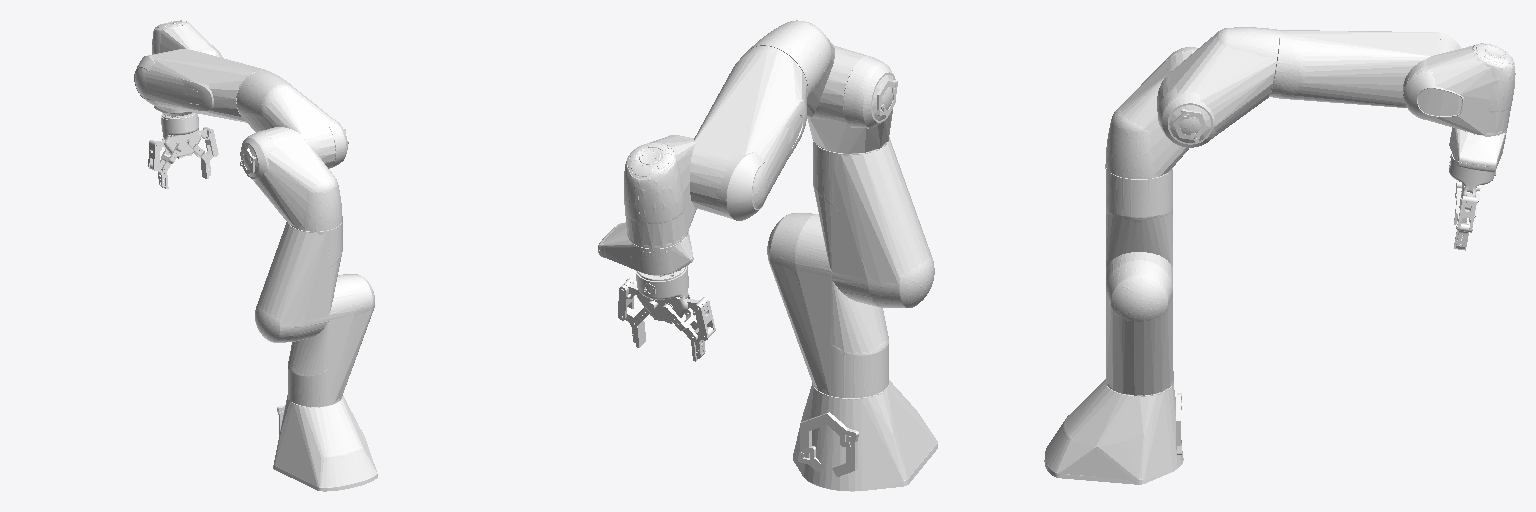
--- What the picture shows (computed from the rendered views, not written in the file) ---
The picture shows the robot from 3 angles, left to right: view 1: azimuth 30°, elevation 25°; view 2: azimuth 150°, elevation 25°; view 3: azimuth 270°, elevation 25°; orthographic projection.
Model converted_robot with 31 links and 30 joints (7 revolute, 23 fixed), rooted at world, posed joints at zero except 1 at the middle of their limits (panda0_joint4 = -1.74).
Visible links, largest first — view 1: panda0_link2, panda0_link0, panda0_link3, panda0_link1, panda0_link5, panda0_link4, panda0_link6, robotiq_2f_85; view 2: panda0_link2, panda0_link5, panda0_link1, panda0_link0, panda0_link3, panda0_link6, panda0_link4, panda0_link7, robotiq_2f_85, robotiq_2f_85_left_driver, robotiq_2f_85_left_spring_link, robotiq_2f_85_right_driver; view 3: panda0_link0, panda0_link5, panda0_link4, panda0_link1, panda0_link6, panda0_link3, panda0_link2, panda0_link7, robotiq_2f_85.
Link boxes in pixels (left/top/right/bottom): panda0_link2: left=255, top=221, right=342, bottom=342; panda0_link0: left=273, top=395, right=377, bottom=491; panda0_link3: left=240, top=127, right=342, bottom=231; panda0_link1: left=288, top=274, right=374, bottom=406; panda0_link5: left=134, top=49, right=269, bottom=122; panda0_link4: left=236, top=71, right=348, bottom=168; panda0_link6: left=152, top=20, right=222, bottom=57; robotiq_2f_85: left=161, top=113, right=201, bottom=158; panda0_link2: left=813, top=137, right=934, bottom=307; panda0_link5: left=690, top=46, right=807, bottom=220; panda0_link1: left=767, top=213, right=888, bottom=397; panda0_link0: left=793, top=380, right=937, bottom=491; panda0_link3: left=807, top=46, right=897, bottom=153; panda0_link6: left=624, top=135, right=696, bottom=248; panda0_link4: left=748, top=20, right=834, bottom=118; panda0_link7: left=598, top=222, right=693, bottom=275; robotiq_2f_85: left=635, top=265, right=690, bottom=323; robotiq_2f_85_left_driver: left=686, top=297, right=715, bottom=340; robotiq_2f_85_left_spring_link: left=662, top=304, right=697, bottom=341; robotiq_2f_85_right_driver: left=618, top=278, right=637, bottom=320; panda0_link0: left=1044, top=379, right=1183, bottom=484; panda0_link5: left=1270, top=30, right=1460, bottom=107; panda0_link4: left=1157, top=27, right=1279, bottom=147; panda0_link1: left=1106, top=252, right=1173, bottom=395; panda0_link6: left=1403, top=43, right=1515, bottom=135; panda0_link3: left=1106, top=47, right=1197, bottom=178; panda0_link2: left=1105, top=164, right=1172, bottom=267; panda0_link7: left=1449, top=127, right=1506, bottom=171; robotiq_2f_85: left=1449, top=154, right=1496, bottom=207.
Size in the robot's own frame: 0.2589 by 0.7638 by 0.7695 metres.
35 mesh visuals loaded from 27 distinct referenced files (27 binary STL).

The robot description file, URDF, robot "converted_robot":
<?xml version="1.0" ?>
<robot name="converted_robot">
   <!--generated with mjcf_urdf_simple_converter (https://github.com/Yasu31/mjcf_urdf_simple_converter)-->
   <link name="world">
      <inertial>
         <origin xyz="0.0 0.0 0.0" rpy="0.0 0.0 0.0"/>
         <mass value="0.0"/>
         <inertia ixx="0.0" iyy="0.0" izz="0.0" ixy="0" ixz="0" iyz="0"/>
      </inertial>
   </link>
   <link name="robot_panda0">
      <inertial>
         <origin xyz="0.0 -0.1 0.823" rpy="0.0 0.0 1.5700001242847266"/>
         <mass value="0.0"/>
         <inertia ixx="0.0" iyy="0.0" izz="0.0" ixy="0" ixz="0" iyz="0"/>
      </inertial>
   </link>
   <joint type="fixed" name="world2robot_panda0_fixed">
      <parent link="world"/>
      <child link="robot_panda0"/>
      <origin xyz="0.0 -0.1 0.823" rpy="0.0 0.0 1.5700001242847266"/>
   </joint>
   <link name="panda0_link0">
      <inertial>
         <origin xyz="-0.029189765433072147 -0.0008794649788944781 0.0566031915141631" rpy="0.07341050648529257 -1.1999954549116758 3.0813768508296935"/>
         <mass value="2.91242"/>
         <inertia ixx="0.012252747599100987" iyy="0.011363973543842151" izz="0.008277853958097102" ixy="0" ixz="0" iyz="0"/>
      </inertial>
      <visual name="link0_viz">
         <origin xyz="-0.021984847396766805 -0.0008896593739903566 0.05397633820753746" rpy="0.0005388346167558566 -1.2165331197244809 -3.1263967787637412"/>
         <geometry>
            <mesh filename="../panda_meshes/converted_link0_viz.stl"/>
         </geometry>
         <material name="white"/>
      </visual>
      <visual name="link0_col">
         <origin xyz="-0.029189765433072147 -0.0008794649788944781 0.0566031915141631" rpy="0.07341050648529257 -1.1999954549116756 3.0813768508296935"/>
         <geometry>
            <mesh filename="../panda_meshes/converted_link0_col.stl"/>
         </geometry>
         <material name="white"/>
      </visual>
   </link>
   <joint type="fixed" name="robot_panda02panda0_link0_fixed">
      <parent link="robot_panda0"/>
      <child link="panda0_link0"/>
      <origin xyz="0.0 0.0 0.0" rpy="0.0 0.0 0.0"/>
   </joint>
   <link name="panda0_link1">
      <inertial>
         <origin xyz="1.139898131675401e-05 -0.03126552803743275 -0.06937330598619522" rpy="0.3507575596779383 -0.00032182734340535646 0.0006491282822314315"/>
         <mass value="2.7063"/>
         <inertia ixx="0.016028532125252317" iyy="0.015027567082764292" izz="0.0053318324257230895" ixy="0" ixz="0" iyz="0"/>
      </inertial>
      <visual name="link1_viz">
         <origin xyz="2.2333099850851852e-06 -0.03247938383820199 -0.06757587010715757" rpy="0.38337047278479996 0.00013917529691687136 -0.00037583015721226465"/>
         <geometry>
            <mesh filename="../panda_meshes/converted_link1_viz.stl"/>
         </geometry>
         <material name="white"/>
      </visual>
      <visual name="link1_col">
         <origin xyz="1.139898131675401e-05 -0.03126552803743275 -0.06937330598619522" rpy="0.3507575596779383 -0.00032182734340535646 0.0006491282822314315"/>
         <geometry>
            <mesh filename="../panda_meshes/converted_link1_col.stl"/>
         </geometry>
         <material name="white"/>
      </visual>
   </link>
   <link name="panda0_joint1_jointbody">
      <inertial>
         <origin xyz="0.0 0.0 0.0" rpy="0.0 0.0 0.0"/>
         <mass value="0.001"/>
         <inertia ixx="1e-09" iyy="1e-09" izz="1e-09" ixy="0" ixz="0" iyz="0"/>
      </inertial>
   </link>
   <joint type="revolute" name="panda0_joint1">
      <parent link="panda0_link0"/>
      <child link="panda0_joint1_jointbody"/>
      <origin xyz="0.0 0.0 0.333" rpy="0.0 0.0 0.0"/>
      <axis xyz="0.0 0.0 1.0"/>
      <limit lower="-2.8973" upper="2.8973" effort="87" velocity="2.1750"/>
   </joint>
   <joint type="fixed" name="panda0_joint1_offset">
      <parent link="panda0_joint1_jointbody"/>
      <child link="panda0_link1"/>
      <origin xyz="-0.0 -0.0 -0.0" rpy="0.0 0.0 0.0"/>
   </joint>
   <link name="panda0_link2">
      <inertial>
         <origin xyz="-1.3176553398219796e-05 -0.07032155252075616 0.031178239145109848" rpy="1.9167766250212852 3.863386533176083e-05 -0.00017520097652501398"/>
         <mass value="2.73046"/>
         <inertia ixx="0.016372443569979776" iyy="0.015352789885543734" izz="0.005393701000602283" ixy="0" ixz="0" iyz="0"/>
      </inertial>
      <visual name="link2_viz">
         <origin xyz="3.0683216894497734e-06 -0.06860273544627478 0.03220972526329134" rpy="1.9510753664554936 -0.0003840755309343358 -0.00012992900913055827"/>
         <geometry>
            <mesh filename="../panda_meshes/converted_link2_viz.stl"/>
         </geometry>
         <material name="white"/>
      </visual>
      <visual name="link2_col">
         <origin xyz="-1.3176553398219796e-05 -0.07032155252075616 0.031178239145109848" rpy="1.9167766250212854 3.8633865331982875e-05 -0.00017520097652501398"/>
         <geometry>
            <mesh filename="../panda_meshes/converted_link2_col.stl"/>
         </geometry>
         <material name="white"/>
      </visual>
   </link>
   <link name="panda0_joint2_jointbody">
      <inertial>
         <origin xyz="0.0 0.0 0.0" rpy="0.0 0.0 0.0"/>
         <mass value="0.001"/>
         <inertia ixx="1e-09" iyy="1e-09" izz="1e-09" ixy="0" ixz="0" iyz="0"/>
      </inertial>
   </link>
   <joint type="revolute" name="panda0_joint2">
      <parent link="panda0_link1"/>
      <child link="panda0_joint2_jointbody"/>
      <origin xyz="0.0 0.0 0.0" rpy="-1.5707963267948957 0.0 0.0"/>
      <axis xyz="0.0 0.0 1.0"/>
      <limit lower="-1.7628" upper="1.7628" effort="87" velocity="2.1750"/>
   </joint>
   <joint type="fixed" name="panda0_joint2_offset">
      <parent link="panda0_joint2_jointbody"/>
      <child link="panda0_link2"/>
      <origin xyz="-0.0 -0.0 -0.0" rpy="0.0 0.0 0.0"/>
   </joint>
   <link name="panda0_link3">
      <inertial>
         <origin xyz="0.04434830616977217 0.02492832585533832 -0.038129984535498415" rpy="0.6264281539686369 -0.6489124028865899 2.7888150643653677"/>
         <mass value="2.04104"/>
         <inertia ixx="0.008704799647862464" iyy="0.008526189975065757" izz="0.003659192966081935" ixy="0" ixz="0" iyz="0"/>
      </inertial>
      <visual name="link3_viz">
         <origin xyz="0.04853890609499807 0.03426551671468284 -0.031158988253545027" rpy="0.5620645638906847 -0.7724060532253757 3.0330843961200182"/>
         <geometry>
            <mesh filename="../panda_meshes/converted_link3_viz.stl"/>
         </geometry>
         <material name="white"/>
      </visual>
      <visual name="link3_dark_viz">
         <origin xyz="0.07826594887105137 0.08142974519737879 -0.00406312503726814" rpy="0.9103914044624806 0.05315688187292977 1.6361660028735399"/>
         <geometry>
            <mesh filename="../panda_meshes/converted_link3_dark_viz.stl"/>
         </geometry>
         <material name="white"/>
      </visual>
      <visual name="link3_col">
         <origin xyz="0.04434830616977217 0.02492832585533832 -0.038129984535498415" rpy="0.6264281539686367 -0.6489124028865898 2.788815064365368"/>
         <geometry>
            <mesh filename="../panda_meshes/converted_link3_col.stl"/>
         </geometry>
         <material name="white"/>
      </visual>
   </link>
   <link name="panda0_joint3_jointbody">
      <inertial>
         <origin xyz="0.0 0.0 0.0" rpy="0.0 0.0 0.0"/>
         <mass value="0.001"/>
         <inertia ixx="1e-09" iyy="1e-09" izz="1e-09" ixy="0" ixz="0" iyz="0"/>
      </inertial>
   </link>
   <joint type="revolute" name="panda0_joint3">
      <parent link="panda0_link2"/>
      <child link="panda0_joint3_jointbody"/>
      <origin xyz="0.0 -0.316 0.0" rpy="1.5707963267948963 0.0 0.0"/>
      <axis xyz="0.0 0.0 1.0"/>
      <limit lower="-2.8973" upper="2.8973" effort="87" velocity="2.1750"/>
   </joint>
   <joint type="fixed" name="panda0_joint3_offset">
      <parent link="panda0_joint3_jointbody"/>
      <child link="panda0_link3"/>
      <origin xyz="-0.0 -0.0 -0.0" rpy="0.0 0.0 0.0"/>
   </joint>
   <link name="panda0_link4">
      <inertial>
         <origin xyz="-0.038550294327056006 0.03952560974766748 0.024716241456280232" rpy="1.1575252530204931 0.36233734062035716 0.6286469250141417"/>
         <mass value="2.08129"/>
         <inertia ixx="0.009006880847790886" iyy="0.008831790803553114" izz="0.0037733476177690558" ixy="0" ixz="0" iyz="0"/>
      </inertial>
      <visual name="link4_viz">
         <origin xyz="-0.034582874588439914 0.03234212044021938 0.033850654593722634" rpy="1.0871199462729406 0.12778884236414356 0.7368487765625511"/>
         <geometry>
            <mesh filename="../panda_meshes/converted_link4_viz.stl"/>
         </geometry>
         <material name="white"/>
      </visual>
      <visual name="link4_dark_viz">
         <origin xyz="-0.005059102785114565 0.004050337360715577 0.08043076246399442" rpy="0.017273021275597378 -1.4866930441457151 2.4623856789347984"/>
         <geometry>
            <mesh filename="../panda_meshes/converted_link4_dark_viz.stl"/>
         </geometry>
         <material name="white"/>
      </visual>
      <visual name="link4_col">
         <origin xyz="-0.038550294327056006 0.03952560974766748 0.024716241456280232" rpy="1.1575252530204934 0.36233734062035716 0.6286469250141418"/>
         <geometry>
            <mesh filename="../panda_meshes/converted_link4_col.stl"/>
         </geometry>
         <material name="white"/>
      </visual>
   </link>
   <link name="panda0_joint4_jointbody">
      <inertial>
         <origin xyz="0.0 0.0 0.0" rpy="0.0 0.0 0.0"/>
         <mass value="0.001"/>
         <inertia ixx="1e-09" iyy="1e-09" izz="1e-09" ixy="0" ixz="0" iyz="0"/>
      </inertial>
   </link>
   <joint type="revolute" name="panda0_joint4">
      <parent link="panda0_link3"/>
      <child link="panda0_joint4_jointbody"/>
      <origin xyz="0.0825 0.0 0.0" rpy="1.5707963267948963 0.0 0.0"/>
      <axis xyz="0.0 0.0 1.0"/>
      <limit lower="-3.0718" upper="-0.4" effort="87" velocity="2.1750"/>
   </joint>
   <joint type="fixed" name="panda0_joint4_offset">
      <parent link="panda0_joint4_jointbody"/>
      <child link="panda0_link4"/>
      <origin xyz="-0.0 -0.0 -0.0" rpy="0.0 0.0 0.0"/>
   </joint>
   <link name="panda0_link5">
      <inertial>
         <origin xyz="-6.367762704756645e-05 0.03841237270479223 -0.10997017500559451" rpy="-0.27197776604413226 0.0020967099799318323 0.0011148540412214414"/>
         <mass value="3.00049"/>
         <inertia ixx="0.02618581046633134" iyy="0.02524217285800852" izz="0.005348180896198652" ixy="0" ixz="0" iyz="0"/>
      </inertial>
      <visual name="link5_viz">
         <origin xyz="-4.666435241145311e-05 0.052776968679302275 -0.09842004873748064" rpy="-0.2898827389028237 0.0013934871359873036 0.004714140157746488"/>
         <geometry>
            <mesh filename="../panda_meshes/converted_link5_viz.stl"/>
         </geometry>
         <material name="white"/>
      </visual>
      <visual name="link5_dark_viz">
         <origin xyz="-0.0001488770396455637 0.09673623430592755 -0.033143402548721564" rpy="0.0024935213048430382 0.0495754496836307 1.5665339126678446"/>
         <geometry>
            <mesh filename="../panda_meshes/converted_link5_dark_viz.stl"/>
         </geometry>
         <material name="white"/>
      </visual>
      <visual name="link5_col">
         <origin xyz="-6.367762704756645e-05 0.03841237270479223 -0.10997017500559451" rpy="-0.27197776604413215 0.0020967099799316102 0.0011148540412214136"/>
         <geometry>
            <mesh filename="../panda_meshes/converted_link5_col.stl"/>
         </geometry>
         <material name="white"/>
      </visual>
   </link>
   <link name="panda0_joint5_jointbody">
      <inertial>
         <origin xyz="0.0 0.0 0.0" rpy="0.0 0.0 0.0"/>
         <mass value="0.001"/>
         <inertia ixx="1e-09" iyy="1e-09" izz="1e-09" ixy="0" ixz="0" iyz="0"/>
      </inertial>
   </link>
   <joint type="revolute" name="panda0_joint5">
      <parent link="panda0_link4"/>
      <child link="panda0_joint5_jointbody"/>
      <origin xyz="-0.0825 0.384 0.0" rpy="-1.5707963267948957 0.0 0.0"/>
      <axis xyz="0.0 0.0 1.0"/>
      <limit lower="-2.8973" upper="2.8973" effort="12" velocity="2.6100"/>
   </joint>
   <joint type="fixed" name="panda0_joint5_offset">
      <parent link="panda0_joint5_jointbody"/>
      <child link="panda0_link5"/>
      <origin xyz="-0.0 -0.0 -0.0" rpy="0.0 0.0 0.0"/>
   </joint>
   <link name="panda0_link6">
      <inertial>
         <origin xyz="0.05100229436563991 0.00693267296652053 0.006168993350723507" rpy="-3.0615998737983494 -1.4277689715854653 0.04852070640740158"/>
         <mass value="1.3235"/>
         <inertia ixx="0.004018128712601542" iyy="0.0032851446119434107" izz="0.0020794507936098493" ixy="0" ixz="0" iyz="0"/>
      </inertial>
      <visual name="link6_viz">
         <origin xyz="0.05225810515193972 0.006880303416204388 0.008534384591949348" rpy="-3.069238024326488 -1.361132407610263 0.07945352484196389"/>
         <geometry>
            <mesh filename="../panda_meshes/converted_link6_viz.stl"/>
         </geometry>
         <material name="white"/>
      </visual>
      <visual name="link6_dark_viz">
         <origin xyz="0.04452175313348117 0.03310736130263862 0.022291914090851093" rpy="2.4222242876475013 -1.142765253857969 1.4465912259522415"/>
         <geometry>
            <mesh filename="../panda_meshes/converted_link6_dark_viz.stl"/>
         </geometry>
         <material name="white"/>
      </visual>
      <visual name="link6_col">
         <origin xyz="0.05100229436563991 0.00693267296652053 0.006168993350723507" rpy="-3.0615998737983494 -1.4277689715854653 0.04852070640740158"/>
         <geometry>
            <mesh filename="../panda_meshes/converted_link6_col.stl"/>
         </geometry>
         <material name="white"/>
      </visual>
   </link>
   <link name="panda0_joint6_jointbody">
      <inertial>
         <origin xyz="0.0 0.0 0.0" rpy="0.0 0.0 0.0"/>
         <mass value="0.001"/>
         <inertia ixx="1e-09" iyy="1e-09" izz="1e-09" ixy="0" ixz="0" iyz="0"/>
      </inertial>
   </link>
   <joint type="revolute" name="panda0_joint6">
      <parent link="panda0_link5"/>
      <child link="panda0_joint6_jointbody"/>
      <origin xyz="0.0 0.0 0.0" rpy="0.7853981633974483 -1.569670612918126 0.7853981633974483"/>
      <axis xyz="0.0 0.0 1.0"/>
      <limit lower="-1.6573" upper="2.1127" effort="12" velocity="2.6100"/>
   </joint>
   <joint type="fixed" name="panda0_joint6_offset">
      <parent link="panda0_joint6_jointbody"/>
      <child link="panda0_link6"/>
      <origin xyz="-0.0 -0.0 -0.0" rpy="0.0 0.0 0.0"/>
   </joint>
   <link name="panda0_link7">
      <inertial>
         <origin xyz="0.010361372115882629 0.010359603871236887 0.07910777287138845" rpy="3.138032285623005 -1.5171405401134985 -2.3520385516245224"/>
         <mass value="0.2"/>
         <inertia ixx="0.0003055845143865651" iyy="0.00025305457597797404" izz="0.00013397897780101473" ixy="0" ixz="0" iyz="0"/>
      </inertial>
      <visual name="link7_viz">
         <origin xyz="0.009733988117508616 0.009872670539790454 0.07875925516057704" rpy="-0.13338769587534194 -1.5230739991879987 -2.2265071063078636"/>
         <geometry>
            <mesh filename="../panda_meshes/converted_link7_viz.stl"/>
         </geometry>
         <material name="white"/>
      </visual>
      <visual name="link7_dark_viz">
         <origin xyz="0.042070756210377716 0.04213157284030423 0.08206855384772965" rpy="-1.5780280770386714 -1.3502633071313788 -2.3564758506473975"/>
         <geometry>
            <mesh filename="../panda_meshes/converted_link7_dark_viz.stl"/>
         </geometry>
         <material name="white"/>
      </visual>
      <visual name="link7_col">
         <origin xyz="0.010361372115882629 0.010359603871236887 0.07910777287138845" rpy="3.138032285623005 -1.5171405401134985 -2.3520385516245224"/>
         <geometry>
            <mesh filename="../panda_meshes/converted_link7_col.stl"/>
         </geometry>
         <material name="white"/>
      </visual>
   </link>
   <link name="panda0_joint7_jointbody">
      <inertial>
         <origin xyz="0.0 0.0 0.0" rpy="0.0 0.0 0.0"/>
         <mass value="0.001"/>
         <inertia ixx="1e-09" iyy="1e-09" izz="1e-09" ixy="0" ixz="0" iyz="0"/>
      </inertial>
   </link>
   <joint type="revolute" name="panda0_joint7">
      <parent link="panda0_link6"/>
      <child link="panda0_joint7_jointbody"/>
      <origin xyz="0.088 0.0 0.0" rpy="1.5696709361563443 -0.7853995448785632 0.0007952610088441947"/>
      <axis xyz="0.0 0.0 1.0"/>
      <limit lower="-2.8973" upper="2.8973" effort="12" velocity="2.6100"/>
   </joint>
   <joint type="fixed" name="panda0_joint7_offset">
      <parent link="panda0_joint7_jointbody"/>
      <child link="panda0_link7"/>
      <origin xyz="-0.0 -0.0 -0.0" rpy="0.0 0.0 0.0"/>
   </joint>
   <link name="ee_mount">
      <inertial>
         <origin xyz="0.0 0.0 0.11" rpy="0.0 0.0 -0.7853970066908718"/>
         <mass value="0.0"/>
         <inertia ixx="0.0" iyy="0.0" izz="0.0" ixy="0" ixz="0" iyz="0"/>
      </inertial>
   </link>
   <joint type="fixed" name="panda0_link72ee_mount_fixed">
      <parent link="panda0_link7"/>
      <child link="ee_mount"/>
      <origin xyz="0.0 0.0 0.11" rpy="0.0 0.0 -0.7853970066908718"/>
   </joint>
   <link name="robotiq_2f_85">
      <inertial>
         <origin xyz="2.2899356960443603e-07 -2.1897912859072486e-05 0.03187705344647061" rpy="-0.00220586909417746 -4.7474867137742294e-05 -0.024489885815227545"/>
         <mass value="0.2702422073195035"/>
         <inertia ixx="0.00024541309796528523" iyy="0.00022507216432187272" izz="0.00014451472455530157" ixy="0" ixz="0" iyz="0"/>
      </inertial>
      <visual name="robotiq-2f-base">
         <origin xyz="2.2899356960443603e-07 -2.1897912859072486e-05 0.03187705344647061" rpy="-0.00220586909417746 -4.7474867137742294e-05 -0.02448988581522754"/>
         <geometry>
            <mesh filename="../panda_meshes/converted_robotiq-2f-base.stl"/>
         </geometry>
         <material name="white"/>
      </visual>
      <visual name="robotiq-2f-base">
         <origin xyz="2.2899356960443603e-07 -2.1897912859072486e-05 0.03187705344647061" rpy="-0.00220586909417746 -4.7474867137742294e-05 -0.02448988581522754"/>
         <geometry>
            <mesh filename="../panda_meshes/converted_robotiq-2f-base.stl"/>
         </geometry>
         <material name="white"/>
      </visual>
   </link>
   <joint type="fixed" name="ee_mount2robotiq_2f_85_fixed">
      <parent link="ee_mount"/>
      <child link="robotiq_2f_85"/>
      <origin xyz="0.0 0.0 0.0" rpy="0.0 0.0 0.0"/>
   </joint>
   <link name="robotiq_2f_85_right_driver">
      <inertial>
         <origin xyz="0.0 0.01575 0.05295" rpy="1.4801282888669522 0.0 0.0"/>
         <mass value="0.2"/>
         <inertia ixx="0.00043212" iyy="0.000431866" izz="0.000360253" ixy="0" ixz="0" iyz="0"/>
      </inertial>
      <visual name="robotiq-2f-driver">
         <origin xyz="2.9693095360038857e-12 0.017754693326339378 0.001073141648831213" rpy="1.642515910368616 0.0 0.0"/>
         <geometry>
            <mesh filename="../panda_meshes/converted_robotiq-2f-driver.stl"/>
         </geometry>
         <material name="white"/>
      </visual>
      <visual name="robotiq-2f-coupler">
         <origin xyz="8.458042296975096e-13 0.03451208541474103 0.019117538318615818" rpy="0.0 0.12903875752327765 1.5707963267948966"/>
         <geometry>
            <mesh filename="../panda_meshes/converted_robotiq-2f-coupler.stl"/>
         </geometry>
         <material name="white"/>
      </visual>
      <visual name="robotiq-2f-coupler">
         <origin xyz="8.458042296975096e-13 0.03451208541474103 0.019117538318615818" rpy="0.0 0.12903875752327765 1.5707963267948966"/>
         <geometry>
            <mesh filename="../panda_meshes/converted_robotiq-2f-coupler.stl"/>
         </geometry>
         <material name="white"/>
      </visual>
   </link>
   <link name="robotiq_2f_85_right_driver_joint_jointbody">
      <inertial>
         <origin xyz="0.0 0.0 0.0" rpy="0.0 0.0 0.0"/>
         <mass value="0.001"/>
         <inertia ixx="1e-09" iyy="1e-09" izz="1e-09" ixy="0" ixz="0" iyz="0"/>
      </inertial>
   </link>
   <joint type="fixed" name="robotiq_2f_85_right_driver_joint">
      <parent link="robotiq_2f_85"/>
      <child link="robotiq_2f_85_right_driver_joint_jointbody"/>
      <origin xyz="0.0 0.0306011 0.054904" rpy="0.0 0.0 0.0"/>
      <axis xyz="1.0 0.0 0.0"/>
      <!-- <limit lower="0.0" upper="0.834" effort="100" velocity="100"/> -->
   </joint>
   <joint type="fixed" name="robotiq_2f_85_right_driver_joint_offset">
      <parent link="robotiq_2f_85_right_driver_joint_jointbody"/>
      <child link="robotiq_2f_85_right_driver"/>
      <origin xyz="-0.0 -0.0 -0.0" rpy="0.0 0.0 0.0"/>
   </joint>
   <link name="robotiq_2f_85_right_follower">
      <inertial>
         <origin xyz="0.0 0.0 0.055" rpy="1.5707963267948963 0.0 0.0"/>
         <mass value="0.2"/>
         <inertia ixx="0.000380833" iyy="0.000380833" izz="0.00036" ixy="0" ixz="0" iyz="0"/>
      </inertial>
      <visual name="robotiq-2f-follower">
         <origin xyz="-8.222505669797204e-08 -0.011045964820441189 0.012478641054290796" rpy="0.3343560463823991 1.1571605218474446e-05 4.019967359436549e-06"/>
         <geometry>
            <mesh filename="../panda_meshes/converted_robotiq-2f-follower.stl"/>
         </geometry>
         <material name="white"/>
      </visual>
      <visual name="robotiq-2f-pad">
         <origin xyz="-1.84784573132982e-10 -0.02140252522024533 0.031014528875892945" rpy="0.0 -4.425003626984392e-05 1.5707963267948966"/>
         <geometry>
            <mesh filename="../panda_meshes/converted_robotiq-2f-pad.stl"/>
         </geometry>
         <material name="white"/>
      </visual>
   </link>
   <link name="robotiq_2f_85_right_follower_joint_jointbody">
      <inertial>
         <origin xyz="0.0 0.0 0.0" rpy="0.0 0.0 0.0"/>
         <mass value="0.001"/>
         <inertia ixx="1e-09" iyy="1e-09" izz="1e-09" ixy="0" ixz="0" iyz="0"/>
      </inertial>
   </link>
   <joint type="fixed" name="robotiq_2f_85_right_follower_joint">
      <parent link="robotiq_2f_85_right_driver"/>
      <child link="robotiq_2f_85_right_follower_joint_jointbody"/>
      <origin xyz="0.0 0.0376 0.043" rpy="0.0 0.0 0.0"/>
      <axis xyz="1.0 0.0 0.0"/>
      <!-- <limit lower="-2.96706" upper="2.96706" effort="100" velocity="100"/> -->
   </joint>
   <joint type="fixed" name="robotiq_2f_85_right_follower_joint_offset">
      <parent link="robotiq_2f_85_right_follower_joint_jointbody"/>
      <child link="robotiq_2f_85_right_follower"/>
      <origin xyz="-0.0 -0.0 -0.0" rpy="0.0 0.0 0.0"/>
   </joint>
   <link name="robotiq_2f_85_right_spring_link">
      <inertial>
         <origin xyz="0.0 0.0 0.055" rpy="1.5707963267948963 0.0 0.0"/>
         <mass value="0.1"/>
         <inertia ixx="0.000190833" iyy="0.000190833" izz="0.00018" ixy="0" ixz="0" iyz="0"/>
      </inertial>
      <visual name="robotiq-2f-spring_link">
         <origin xyz="-8.650050113628342e-09 0.018162399838260603 0.021265809871824037" rpy="0.0 0.7068435008139309 1.5707963267948966"/>
         <geometry>
            <mesh filename="../panda_meshes/converted_robotiq-2f-spring_link.stl"/>
         </geometry>
         <material name="white"/>
      </visual>
   </link>
   <link name="robotiq_2f_85_right_spring_link_joint_jointbody">
      <inertial>
         <origin xyz="0.0 0.0 0.0" rpy="0.0 0.0 0.0"/>
         <mass value="0.001"/>
         <inertia ixx="1e-09" iyy="1e-09" izz="1e-09" ixy="0" ixz="0" iyz="0"/>
      </inertial>
   </link>
   <joint type="fixed" name="robotiq_2f_85_right_spring_link_joint">
      <parent link="robotiq_2f_85"/>
      <child link="robotiq_2f_85_right_spring_link_joint_jointbody"/>
      <origin xyz="0.0 0.012 0.0614" rpy="0.0 0.0 0.0"/>
      <axis xyz="1.0 0.0 0.0"/>
      <!-- <limit lower="-2.96706" upper="2.96706" effort="100" velocity="100"/> -->
   </joint>
   <joint type="fixed" name="robotiq_2f_85_right_spring_link_joint_offset">
      <parent link="robotiq_2f_85_right_spring_link_joint_jointbody"/>
      <child link="robotiq_2f_85_right_spring_link"/>
      <origin xyz="-0.0 -0.0 -0.0" rpy="0.0 0.0 0.0"/>
   </joint>
   <link name="robotiq_2f_85_left_driver">
      <inertial>
         <origin xyz="0.0 0.01575 0.05295" rpy="1.4801282888669522 0.0 0.0"/>
         <mass value="0.2"/>
         <inertia ixx="0.00043212" iyy="0.000431866" izz="0.000360253" ixy="0" ixz="0" iyz="0"/>
      </inertial>
      <visual name="robotiq-2f-driver">
         <origin xyz="2.9693095360038857e-12 0.017754693326339378 0.001073141648831213" rpy="1.642515910368616 0.0 0.0"/>
         <geometry>
            <mesh filename="../panda_meshes/converted_robotiq-2f-driver.stl"/>
         </geometry>
         <material name="white"/>
      </visual>
      <visual name="robotiq-2f-coupler">
         <origin xyz="8.458042296975096e-13 0.03451208541474103 0.019117538318615818" rpy="0.0 0.12903875752327765 1.5707963267948966"/>
         <geometry>
            <mesh filename="../panda_meshes/converted_robotiq-2f-coupler.stl"/>
         </geometry>
         <material name="white"/>
      </visual>
      <visual name="robotiq-2f-coupler">
         <origin xyz="8.458042296975096e-13 0.03451208541474103 0.019117538318615818" rpy="0.0 0.12903875752327765 1.5707963267948966"/>
         <geometry>
            <mesh filename="../panda_meshes/converted_robotiq-2f-coupler.stl"/>
         </geometry>
         <material name="white"/>
      </visual>
   </link>
   <link name="robotiq_2f_85_left_driver_joint_jointbody">
      <inertial>
         <origin xyz="0.0 0.0 0.0" rpy="0.0 0.0 0.0"/>
         <mass value="0.001"/>
         <inertia ixx="1e-09" iyy="1e-09" izz="1e-09" ixy="0" ixz="0" iyz="0"/>
      </inertial>
   </link>
   <joint type="fixed" name="robotiq_2f_85_left_driver_joint">
      <parent link="robotiq_2f_85"/>
      <child link="robotiq_2f_85_left_driver_joint_jointbody"/>
      <origin xyz="0.0 -0.0306011 0.054904" rpy="0.0 0.0 3.141592653589793"/>
      <axis xyz="1.0 0.0 0.0"/>
      <!-- <limit lower="0.0" upper="0.834" effort="100" velocity="100"/> -->
   </joint>
   <joint type="fixed" name="robotiq_2f_85_left_driver_joint_offset">
      <parent link="robotiq_2f_85_left_driver_joint_jointbody"/>
      <child link="robotiq_2f_85_left_driver"/>
      <origin xyz="-0.0 -0.0 -0.0" rpy="0.0 0.0 0.0"/>
   </joint>
   <link name="robotiq_2f_85_left_follower">
      <inertial>
         <origin xyz="0.0 0.0 0.055" rpy="1.5707963267948963 0.0 0.0"/>
         <mass value="0.2"/>
         <inertia ixx="0.000380833" iyy="0.000380833" izz="0.00036" ixy="0" ixz="0" iyz="0"/>
      </inertial>
      <visual name="robotiq-2f-follower">
         <origin xyz="-8.222505669797204e-08 -0.011045964820441189 0.012478641054290796" rpy="0.3343560463823991 1.1571605218474446e-05 4.019967359436549e-06"/>
         <geometry>
            <mesh filename="../panda_meshes/converted_robotiq-2f-follower.stl"/>
         </geometry>
         <material name="white"/>
      </visual>
      <visual name="robotiq-2f-pad">
         <origin xyz="-1.84784573132982e-10 -0.02140252522024533 0.031014528875892945" rpy="0.0 -4.425003626984392e-05 1.5707963267948966"/>
         <geometry>
            <mesh filename="../panda_meshes/converted_robotiq-2f-pad.stl"/>
         </geometry>
         <material name="white"/>
      </visual>
   </link>
   <link name="robotiq_2f_85_left_follower_joint_jointbody">
      <inertial>
         <origin xyz="0.0 0.0 0.0" rpy="0.0 0.0 0.0"/>
         <mass value="0.001"/>
         <inertia ixx="1e-09" iyy="1e-09" izz="1e-09" ixy="0" ixz="0" iyz="0"/>
      </inertial>
   </link>
   <joint type="fixed" name="robotiq_2f_85_left_follower_joint">
      <parent link="robotiq_2f_85_left_driver"/>
      <child link="robotiq_2f_85_left_follower_joint_jointbody"/>
      <origin xyz="0.0 0.0376 0.043" rpy="0.0 0.0 0.0"/>
      <axis xyz="1.0 0.0 0.0"/>
      <!-- <limit lower="-2.96706" upper="2.96706" effort="100" velocity="100"/> -->
   </joint>
   <joint type="fixed" name="robotiq_2f_85_left_follower_joint_offset">
      <parent link="robotiq_2f_85_left_follower_joint_jointbody"/>
      <child link="robotiq_2f_85_left_follower"/>
      <origin xyz="-0.0 -0.0 -0.0" rpy="0.0 0.0 0.0"/>
   </joint>
   <link name="robotiq_2f_85_left_spring_link">
      <inertial>
         <origin xyz="0.0 0.0 0.055" rpy="1.5707963267948963 0.0 0.0"/>
         <mass value="0.1"/>
         <inertia ixx="0.000190833" iyy="0.000190833" izz="0.00018" ixy="0" ixz="0" iyz="0"/>
      </inertial>
      <visual name="robotiq-2f-spring_link">
         <origin xyz="-8.650050113628342e-09 0.018162399838260603 0.021265809871824037" rpy="0.0 0.7068435008139309 1.5707963267948966"/>
         <geometry>
            <mesh filename="../panda_meshes/converted_robotiq-2f-spring_link.stl"/>
         </geometry>
         <material name="white"/>
      </visual>
   </link>
   <link name="robotiq_2f_85_left_spring_link_joint_jointbody">
      <inertial>
         <origin xyz="0.0 0.0 0.0" rpy="0.0 0.0 0.0"/>
         <mass value="0.001"/>
         <inertia ixx="1e-09" iyy="1e-09" izz="1e-09" ixy="0" ixz="0" iyz="0"/>
      </inertial>
   </link>
   <joint type="fixed" name="robotiq_2f_85_left_spring_link_joint">
      <parent link="robotiq_2f_85"/>
      <child link="robotiq_2f_85_left_spring_link_joint_jointbody"/>
      <origin xyz="0.0 -0.012 0.0614" rpy="0.0 0.0 3.141592653589793"/>
      <axis xyz="1.0 0.0 0.0"/>
      <!-- <limit lower="-2.96706" upper="2.96706" effort="100" velocity="100"/> -->
   </joint>
   <joint type="fixed" name="robotiq_2f_85_left_spring_link_joint_offset">
      <parent link="robotiq_2f_85_left_spring_link_joint_jointbody"/>
      <child link="robotiq_2f_85_left_spring_link"/>
      <origin xyz="-0.0 -0.0 -0.0" rpy="0.0 0.0 0.0"/>
   </joint>
   <material name="white">
      <color rgba="1 1 1 1"/>
   </material>
</robot>
